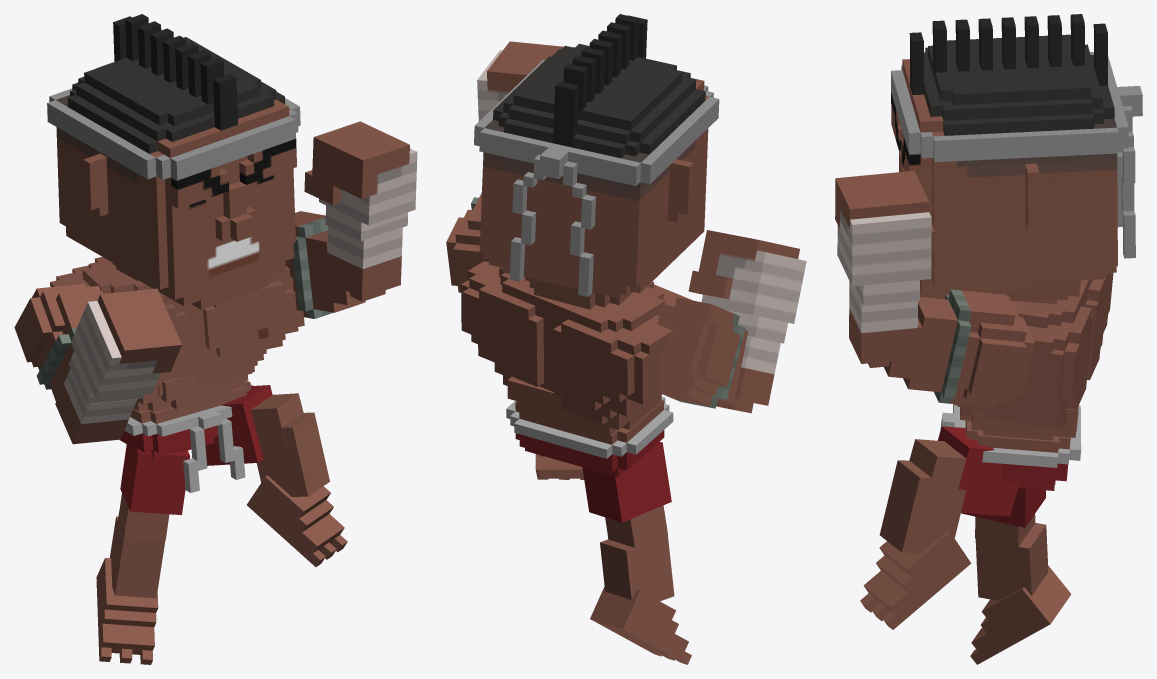
The model's file is legendary.fbx.
The picture shows the model from 3 angles, left to right: view 1: azimuth 30°, elevation 25°; view 2: azimuth 150°, elevation 25°; view 3: azimuth 270°, elevation 25°; orthographic projection. The views are drawn at different scales.
Visible parts, largest first — view 1: thai; view 2: thai; view 3: thai.
Boxes of the visible parts, x1,y1,x2,y2 form: thai: [14, 14, 417, 664]; thai: [446, 14, 806, 664]; thai: [835, 14, 1142, 664].
Bounding box in the file's own units: 336 × 633 × 266.
Materials: 1 (1 with a texture image).
